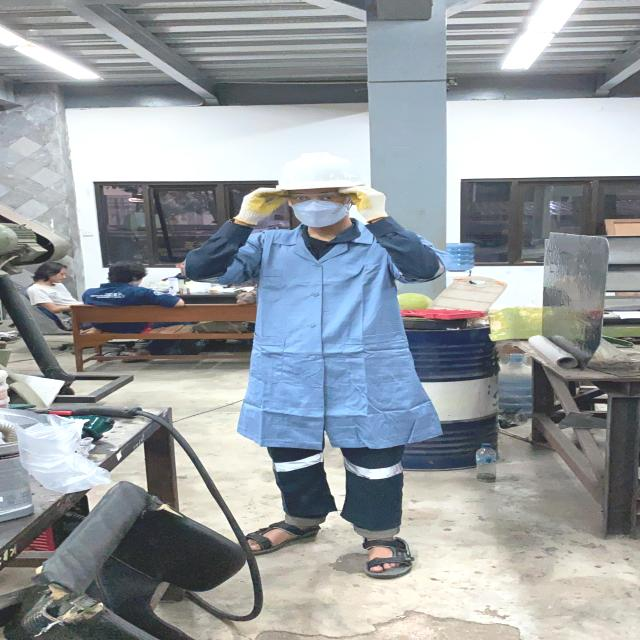face_mask: (285, 187, 353, 224)
face_nomask: (51, 270, 70, 283)
glasses: (285, 191, 356, 206)
hand_glove: (232, 184, 296, 222), (334, 184, 392, 219)
head_helmet: (269, 150, 376, 192)
head_nohelmet: (106, 258, 148, 279), (37, 260, 71, 272)
person: (178, 149, 446, 581)
